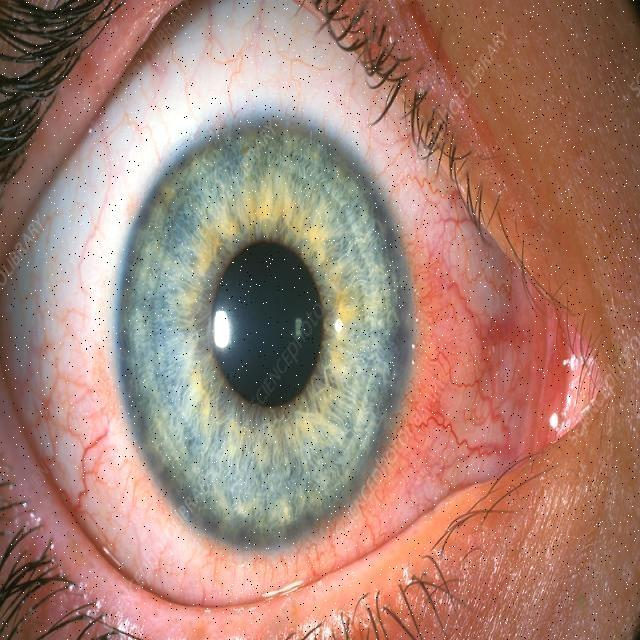Conjunctivitis: (0, 222, 612, 615)
